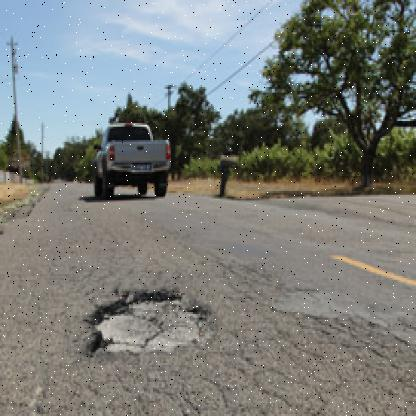pothole: (68, 266, 220, 366)
